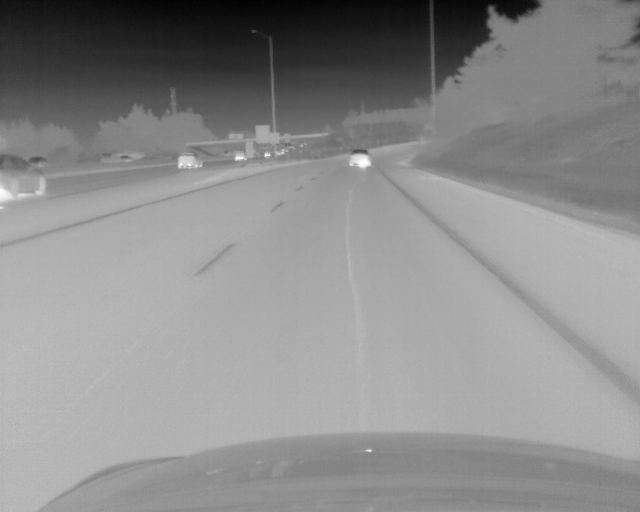car: (1, 155, 46, 199), (177, 151, 203, 170), (349, 149, 371, 168), (234, 150, 245, 161)
